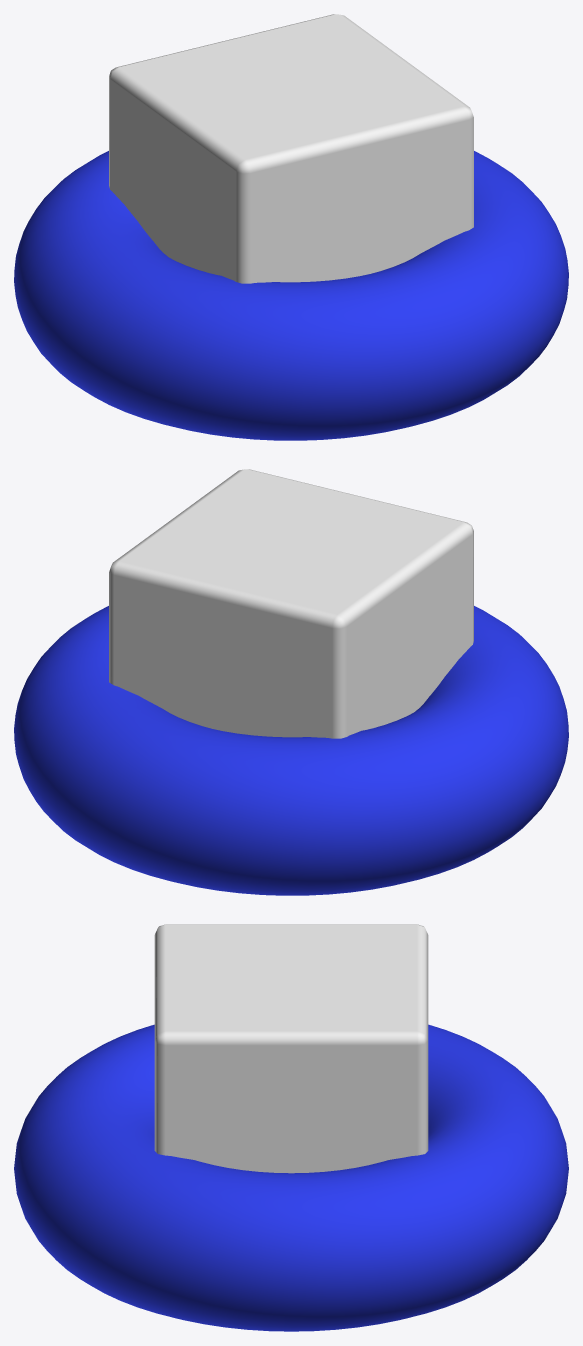
The picture shows the model from 3 angles, top to bottom: view 1: azimuth 30°, elevation 25°; view 2: azimuth 150°, elevation 25°; view 3: azimuth 270°, elevation 25°; orthographic projection.
Parts seen in each view (by area): view 1: Torus, Box; view 2: Torus, Box; view 3: Torus, Box.
Boxes of the visible parts, x1,y1,x2,y2 form: Torus: (14, 151, 568, 440); Box: (109, 14, 473, 283); Torus: (14, 606, 568, 895); Box: (109, 469, 473, 738); Torus: (14, 1024, 568, 1331); Box: (154, 924, 428, 1173).
Size of the model in its own units: 1.02 by 0.53 by 1.02.
